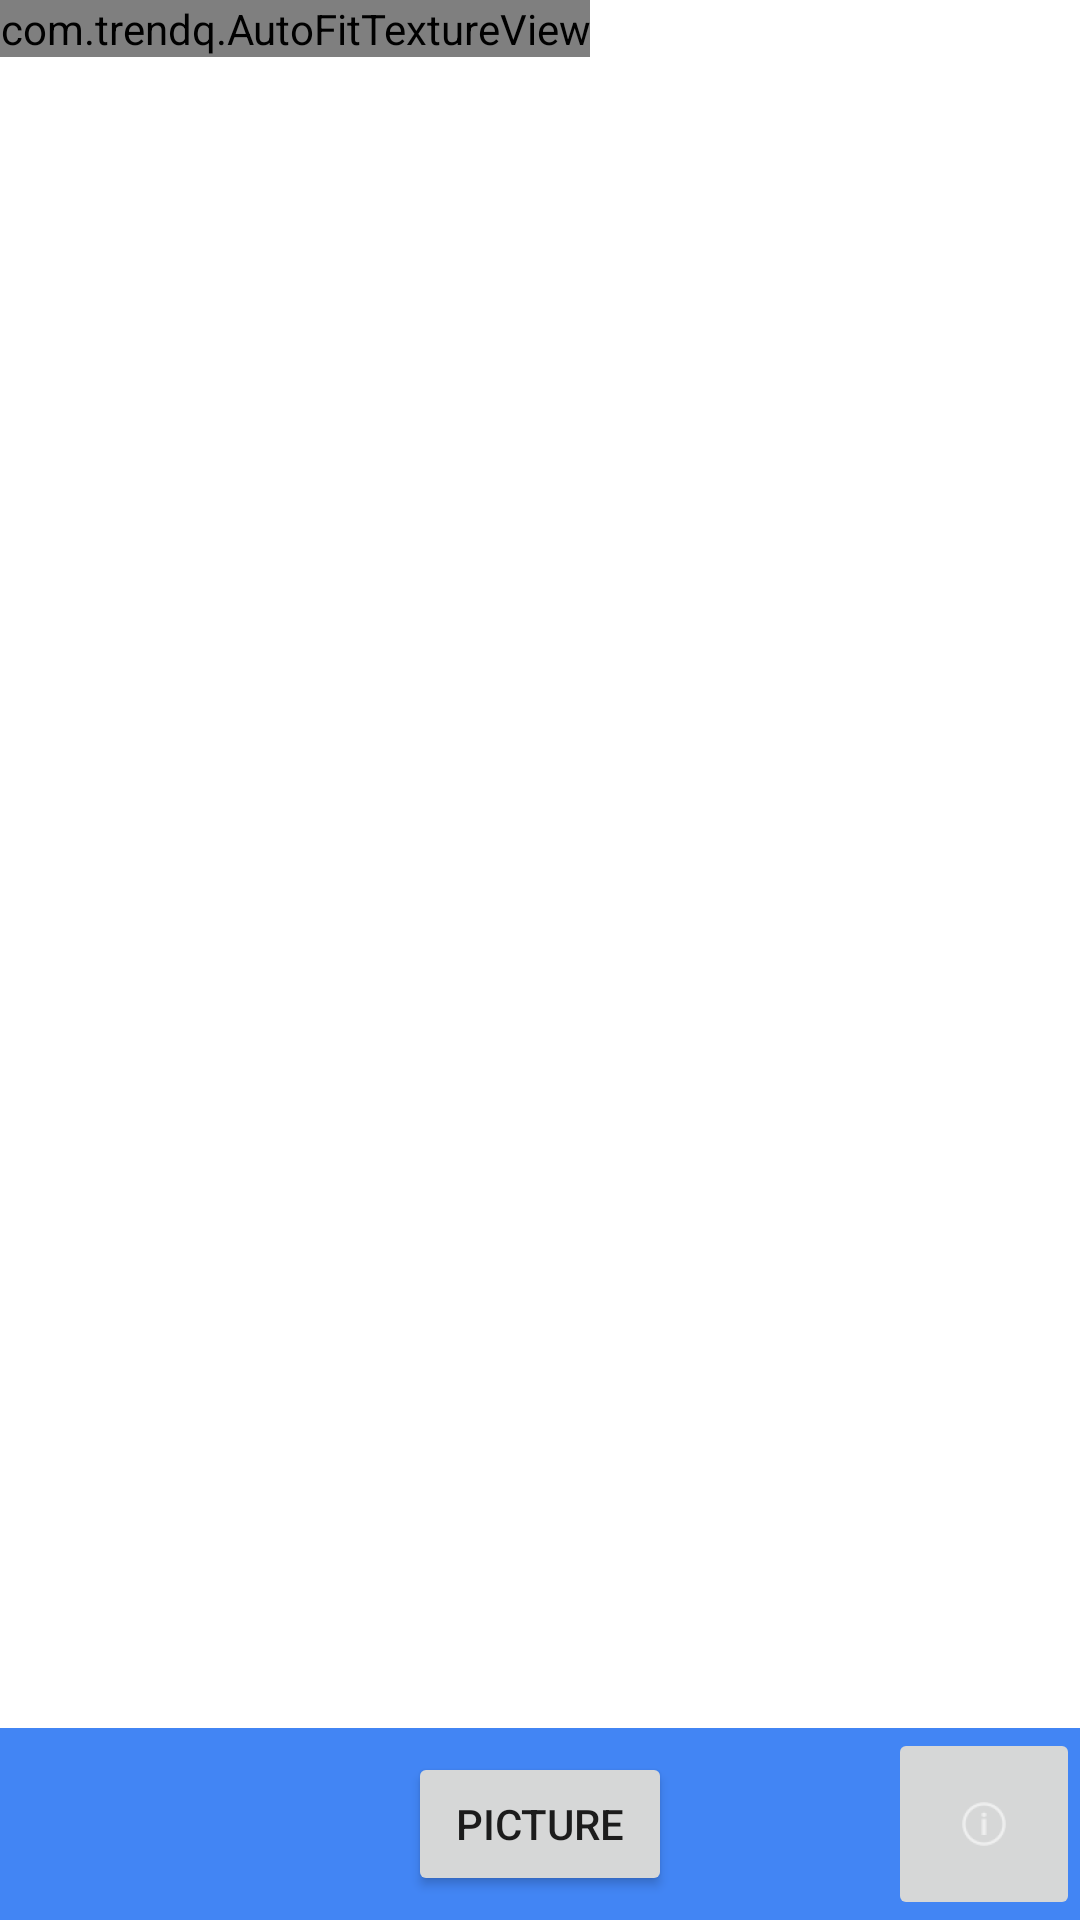

Icons on this 1080 × 1920 Android screen, each with the point to tap as (x,y):
Info: (984,1824)
